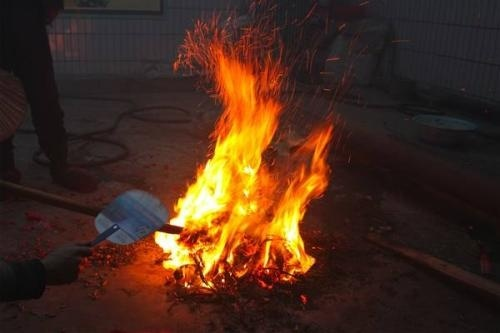fire: (153, 12, 334, 296)
